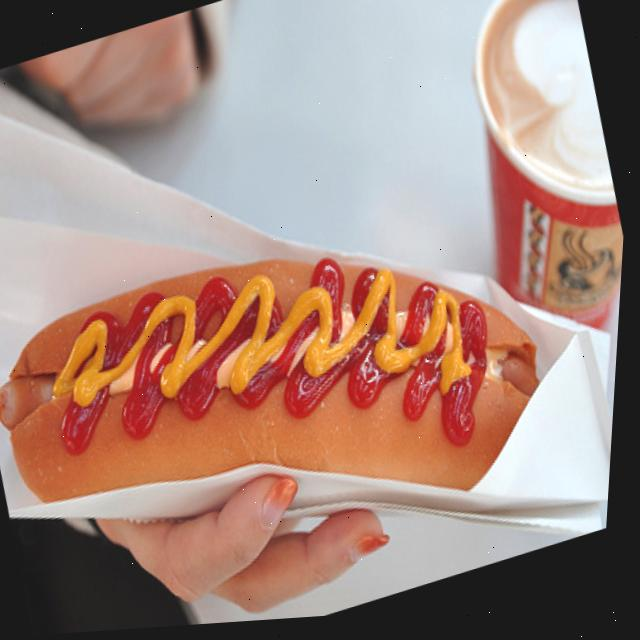汉堡快餐: (0, 140, 584, 623)
